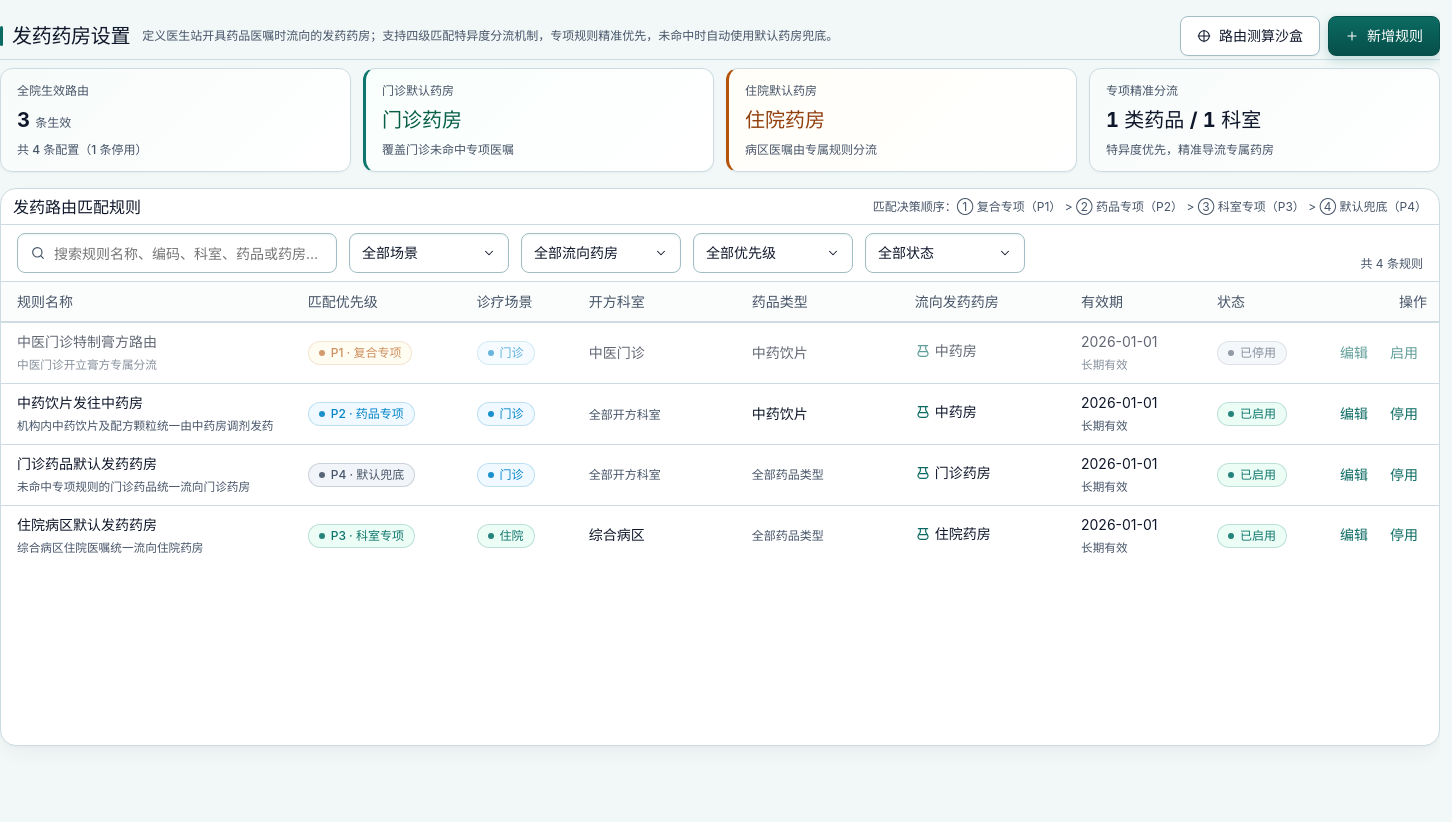
Test: DispenseRouteSettings › evaluates and simulates route resolution accurately in interactive sandbox
Note: Click to open simulator
Step 1. Click the button "路由测算沙盒" → (1250, 36), box [1180,16,1320,56]
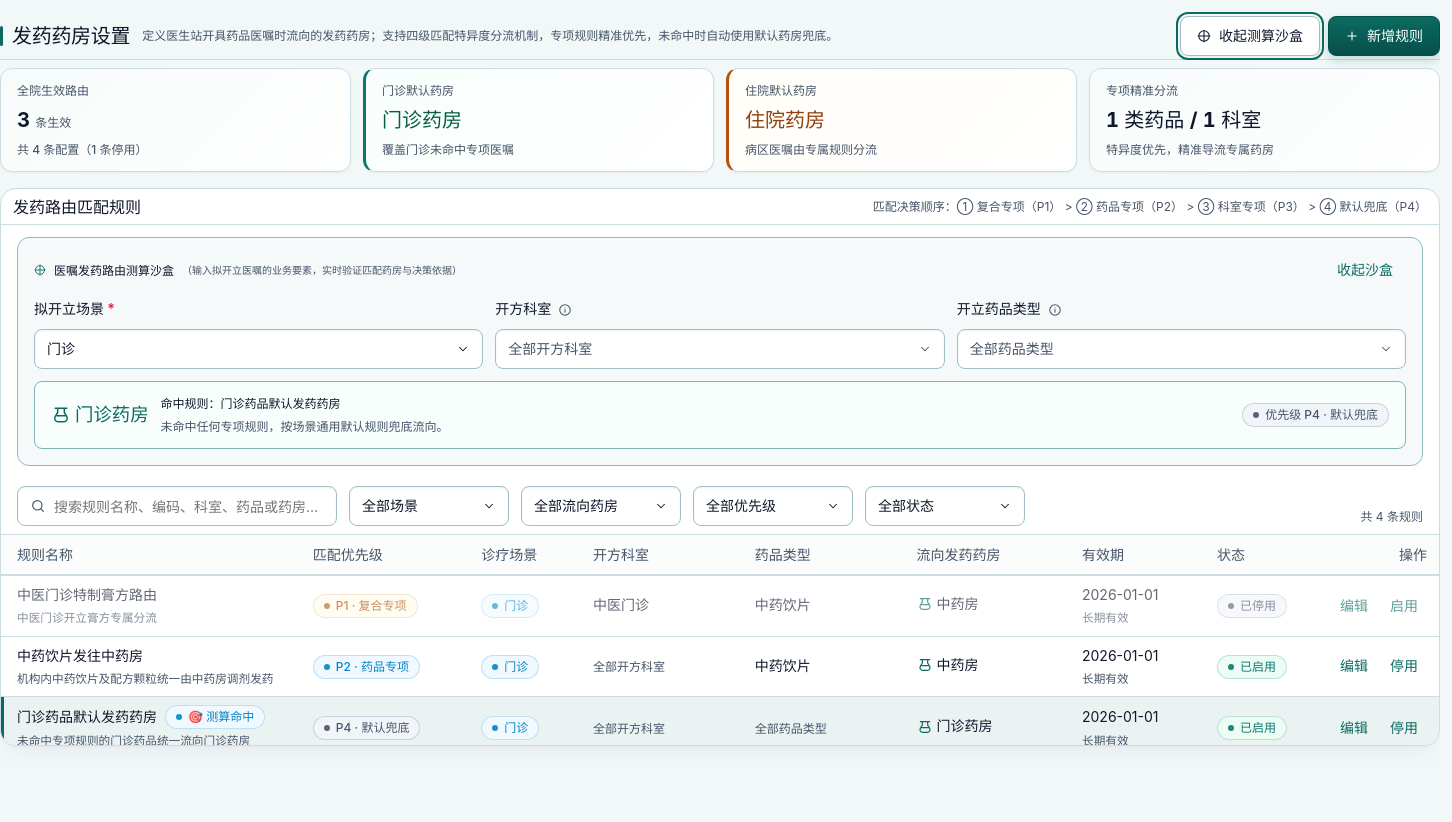
Check: the text "医嘱发药路由测算沙盒" is shown, box [54,261,174,280]
Check: the text "命中规则：门诊药品默认发药药房" is shown, box [161,396,341,411]
Check: the text "未命中任何专项规则，按场景通用默认规则兜底流向。" is shown, box [161,417,449,436]
